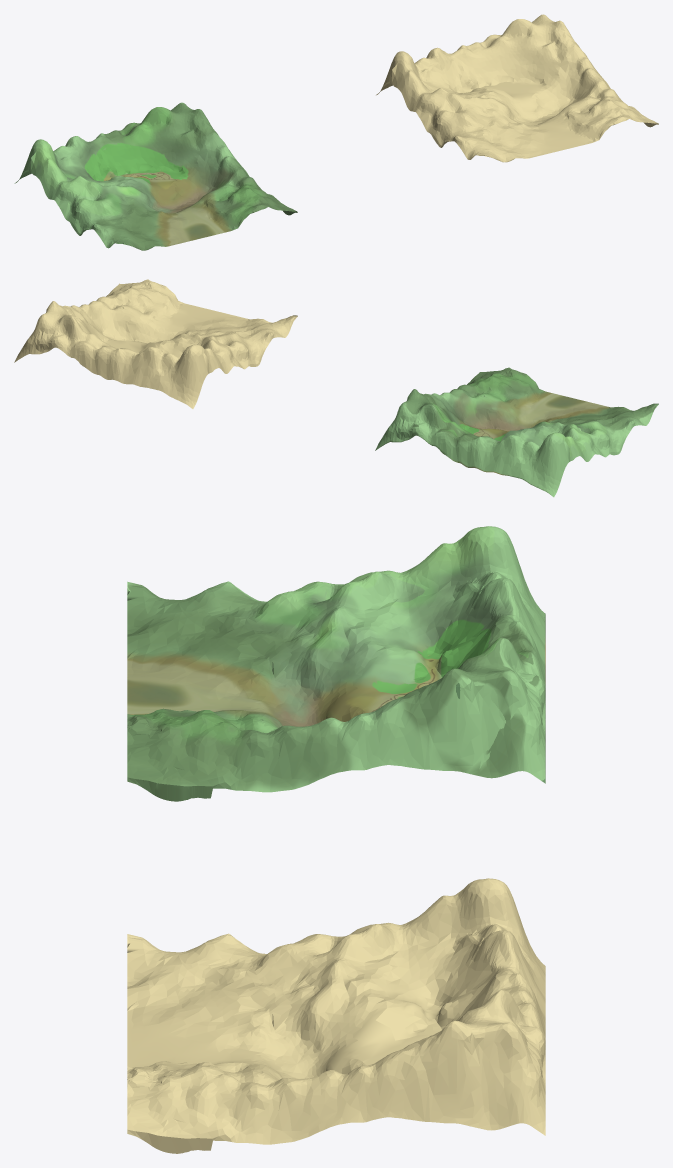
Rendered from Terrain13_temp.fbx_Scene_Master_Collection.fbx.
3 views of the same model, one above another, from view 1: azimuth 30°, elevation 25°; view 2: azimuth 150°, elevation 25°; view 3: azimuth 270°, elevation 25° (orthographic). The views are drawn at different scales.
Parts seen in each view (by area): view 1: Map1_10000p.001, 1-3, 1-2, 1-6, 1-5, Map1_10000p.002; view 2: Map1_10000p.001, 1-3, 1-1, 1-2, 1-6, 1-5; view 3: Map1_10000p.001, 1-3, 1-2, 1-5, Map1_10000p.002, 1-1, 1-6.
Part boxes in pixels (bbox=[...]): Map1_10000p.001: bbox=[14, 102, 297, 250]; 1-3: bbox=[421, 14, 658, 162]; 1-2: bbox=[389, 47, 511, 119]; 1-6: bbox=[453, 26, 522, 86]; 1-5: bbox=[426, 52, 493, 98]; Map1_10000p.002: bbox=[450, 78, 490, 93]; Map1_10000p.001: bbox=[375, 367, 658, 497]; 1-3: bbox=[14, 279, 297, 369]; 1-1: bbox=[87, 349, 209, 408]; 1-2: bbox=[130, 333, 238, 374]; 1-6: bbox=[73, 326, 135, 368]; 1-5: bbox=[136, 340, 197, 357]; Map1_10000p.001: bbox=[127, 526, 545, 801]; 1-3: bbox=[127, 933, 545, 1153]; 1-2: bbox=[299, 878, 515, 1031]; 1-5: bbox=[355, 940, 503, 1040]; Map1_10000p.002: bbox=[394, 979, 458, 1035]; 1-1: bbox=[499, 884, 545, 1036]; 1-6: bbox=[468, 967, 545, 1038].
Bounding box in the file's own units: 120231 × 12603 × 40309.
